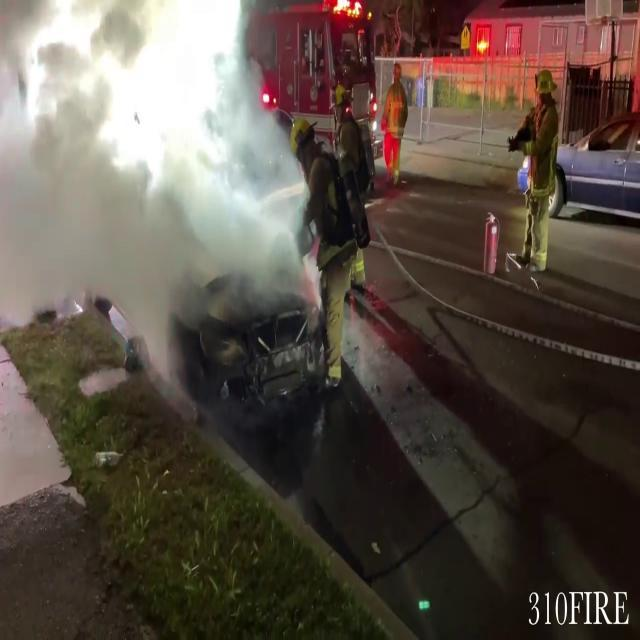Smoke: (1, 0, 316, 393)
